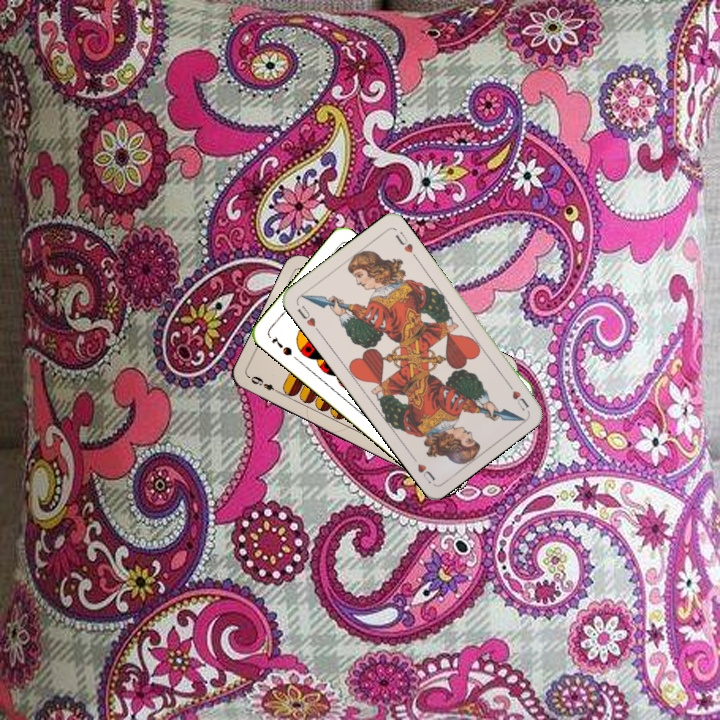E9: (245, 372, 283, 396)
HU: (503, 378, 532, 413), (293, 301, 318, 329)
S7: (268, 332, 295, 358)
